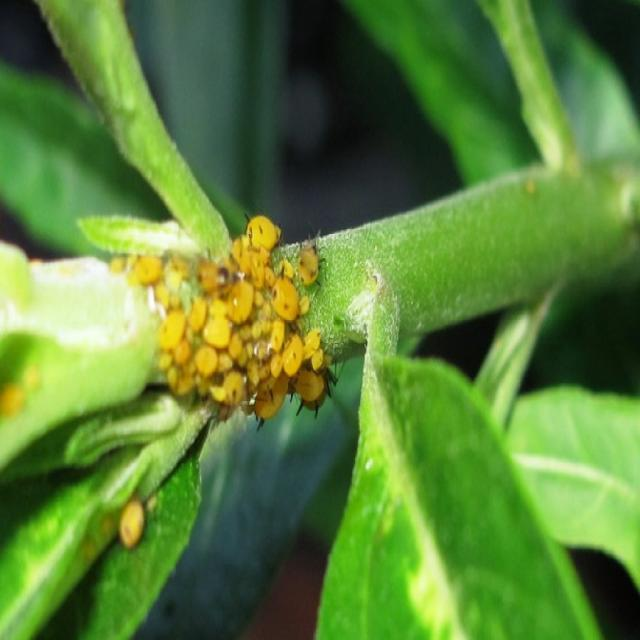Aphid-Grouped-: (124, 211, 340, 421)
